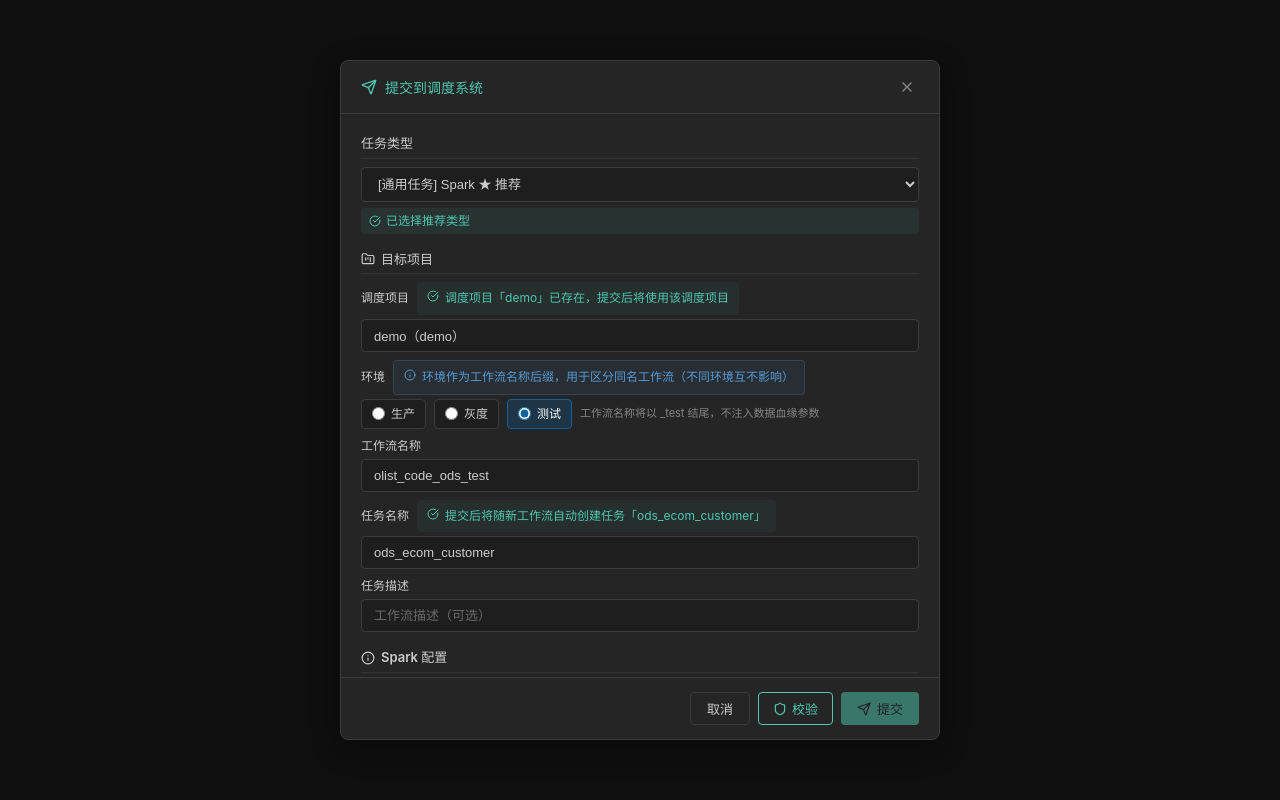
Test: SubmitToSchedulerModal — 血缘参数只在生产环境提交 › 界面提示随环境变化，明确说明非生产不带血缘参数
Click the radio button labelled "生产". click: click(378, 414)
box: [372,407,385,420]
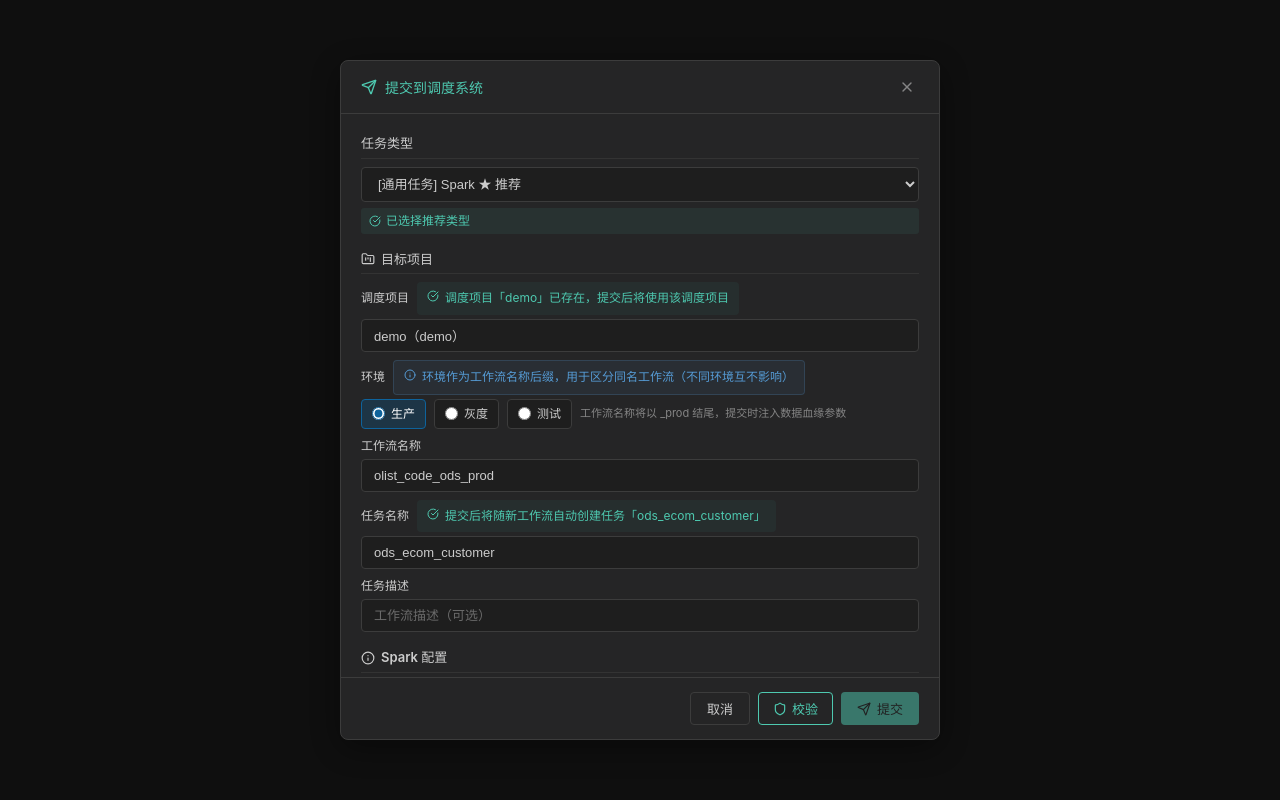
Expected: the text "提交时注入数据血缘参数" is shown, [580,406,846,420]
